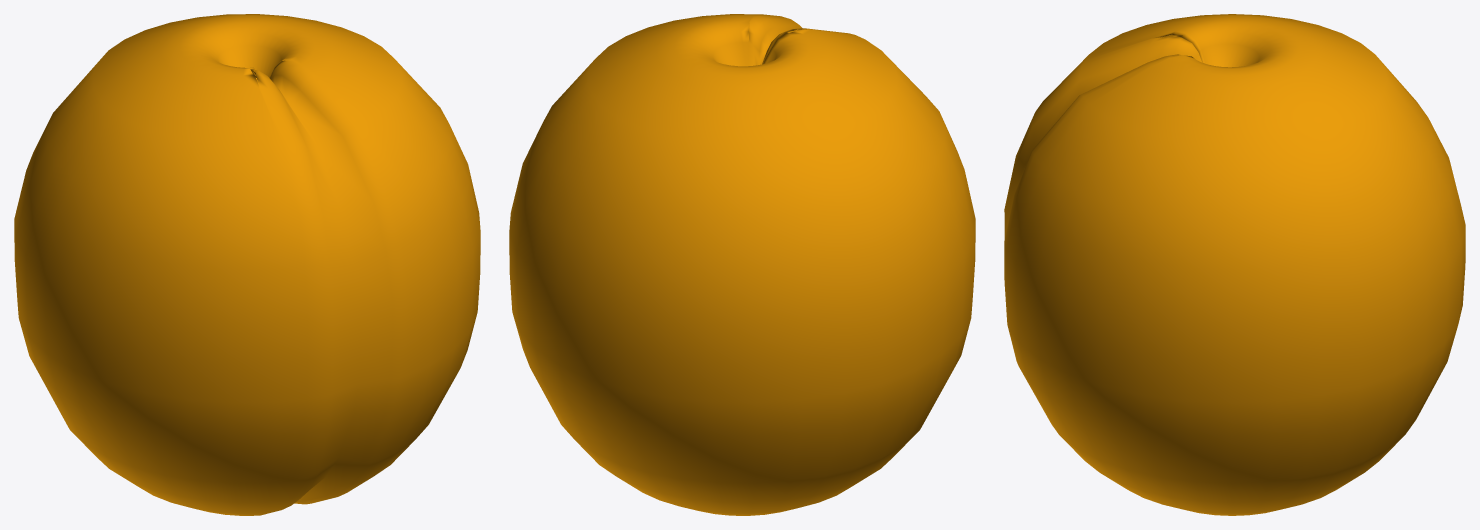
Rendered from Apricot.fbx.
The picture shows the model from 3 angles, left to right: view 1: azimuth 30°, elevation 25°; view 2: azimuth 150°, elevation 25°; view 3: azimuth 270°, elevation 25°; orthographic projection.
Visible parts, largest first — view 1: Apricot; view 2: Apricot; view 3: Apricot.
Part boxes in pixels (x1,y1,x2,y2): Apricot: (14, 14, 480, 515); Apricot: (509, 14, 975, 515); Apricot: (1004, 14, 1465, 515).
Size of the model in its own units: 333 by 350 by 329.
